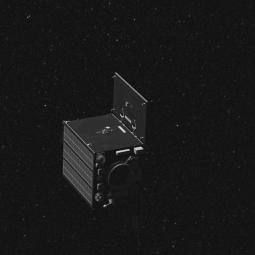proba_2: (64, 66, 161, 222)
